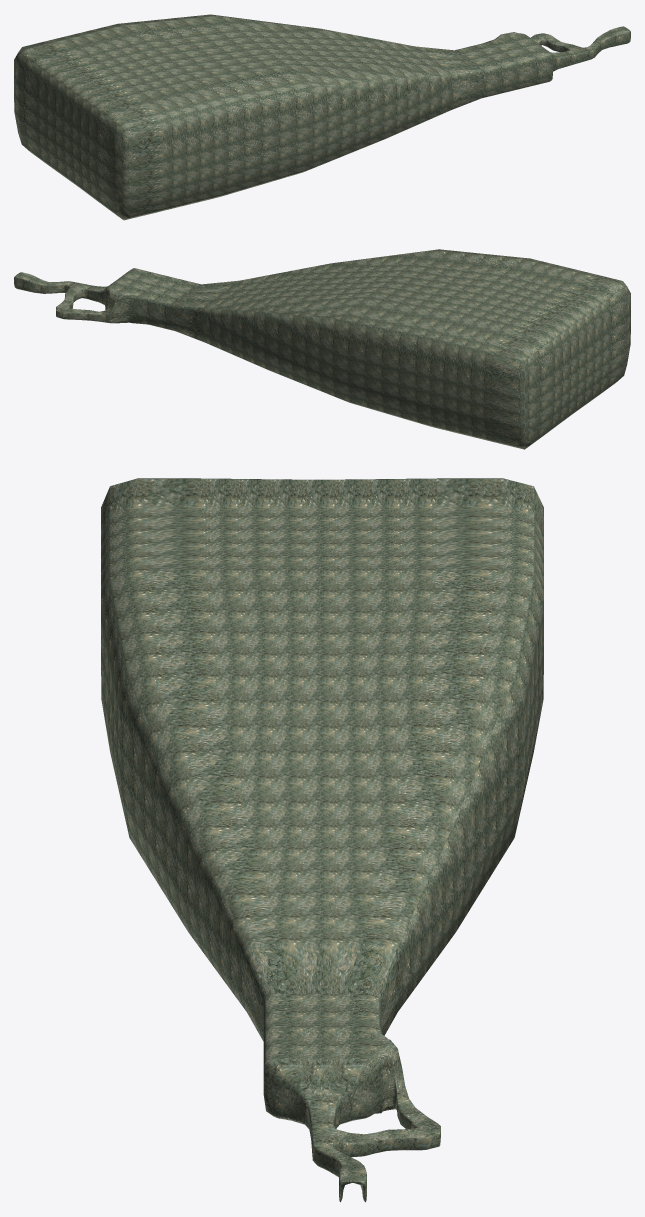
Rendered from cavernRough.fbx.
The picture shows the model from 3 angles, top to bottom: view 1: azimuth 30°, elevation 25°; view 2: azimuth 150°, elevation 25°; view 3: azimuth 270°, elevation 25°; orthographic projection. The views are drawn at different scales.
Visible parts, largest first — view 1: polySurface2; view 2: polySurface2; view 3: polySurface2.
Boxes of the visible parts, <box> form: polySurface2: <box>14,14,630,220</box>; polySurface2: <box>14,249,630,449</box>; polySurface2: <box>101,478,543,1202</box>.
Bounding box in the file's own units: 456 × 78.54 × 157.
